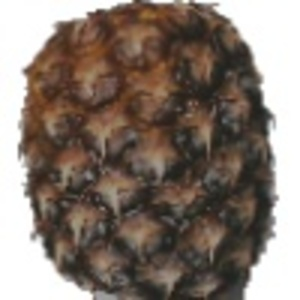abacaxi: (14, 2, 285, 297)
